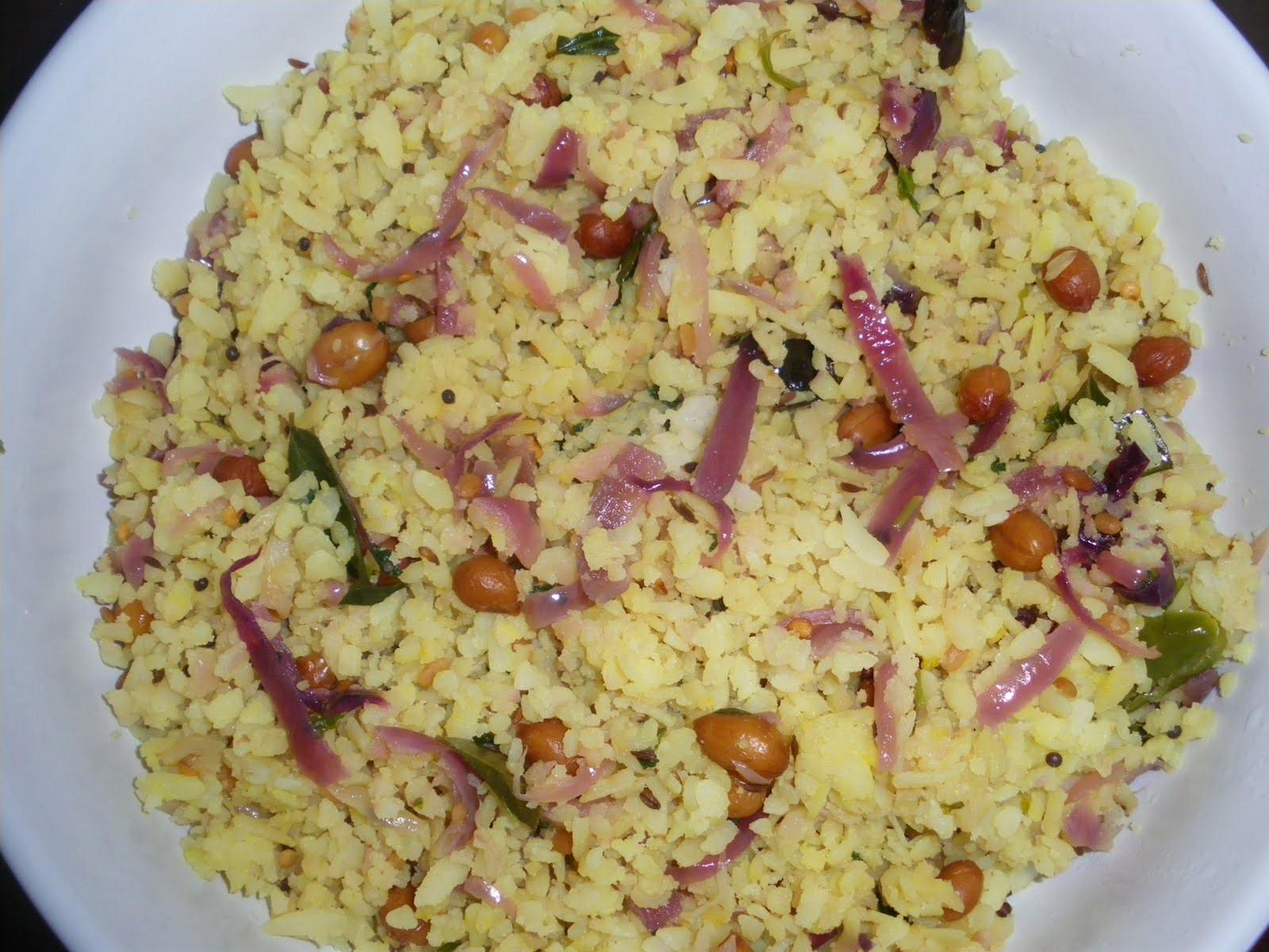Poha: (88, 0, 1269, 952)
